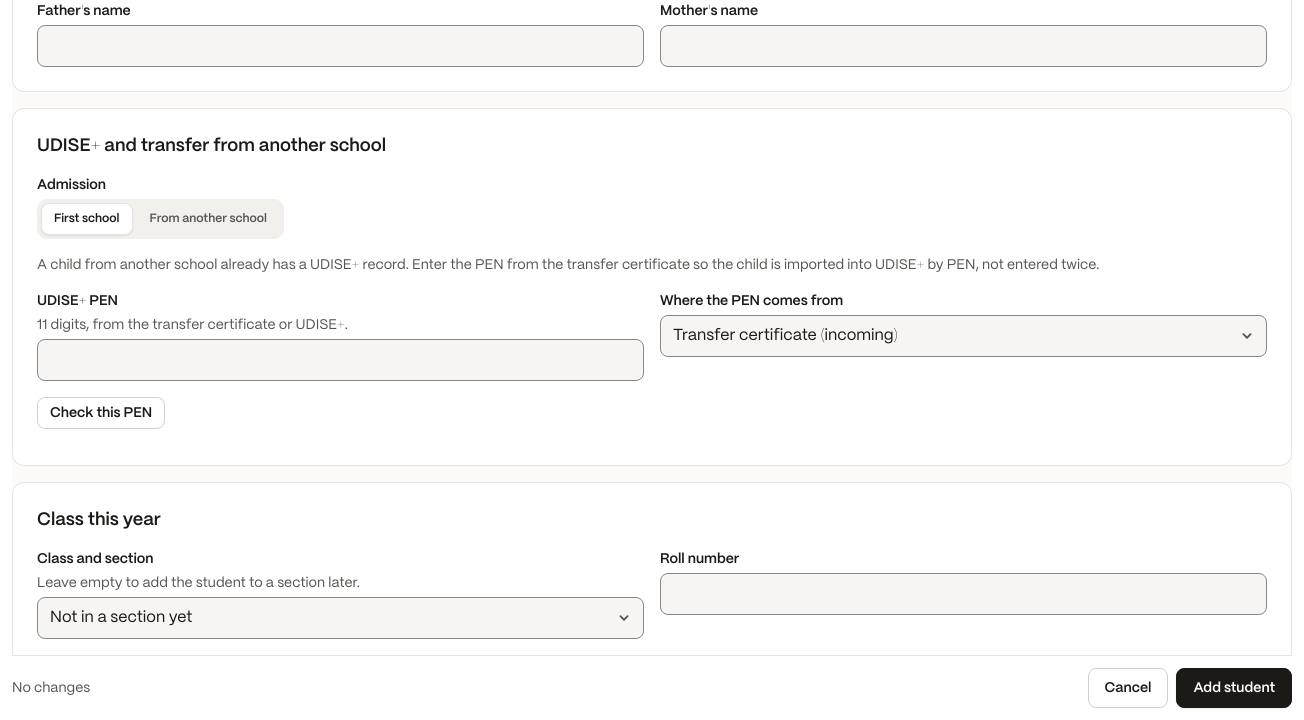
FR-STU-018 transfer-in by PEN › checks a PEN in the body and links to the record already holding it
(page scrolled)
Type "2134 5678 901" into the field labelled "UDISE+ PEN" at (340, 360), box [37,339,644,381]
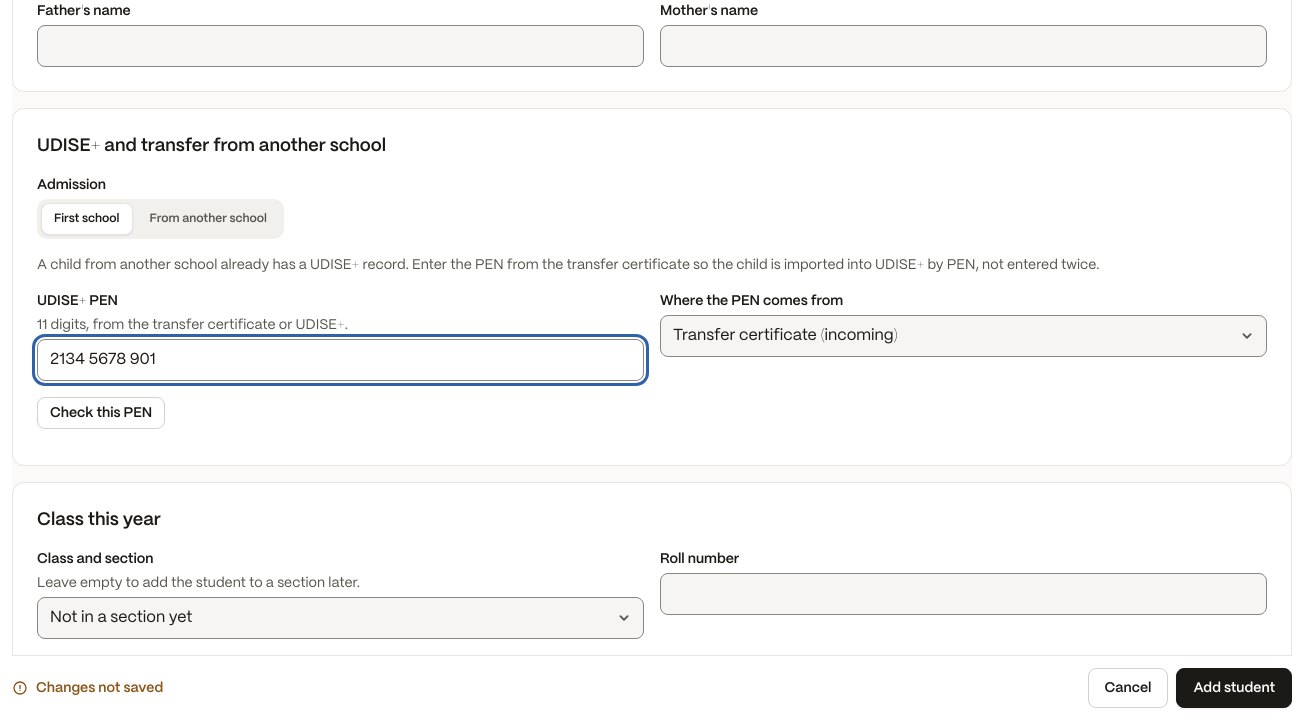
Click the button "Check this PEN" at (101, 413), box [37,397,165,429]
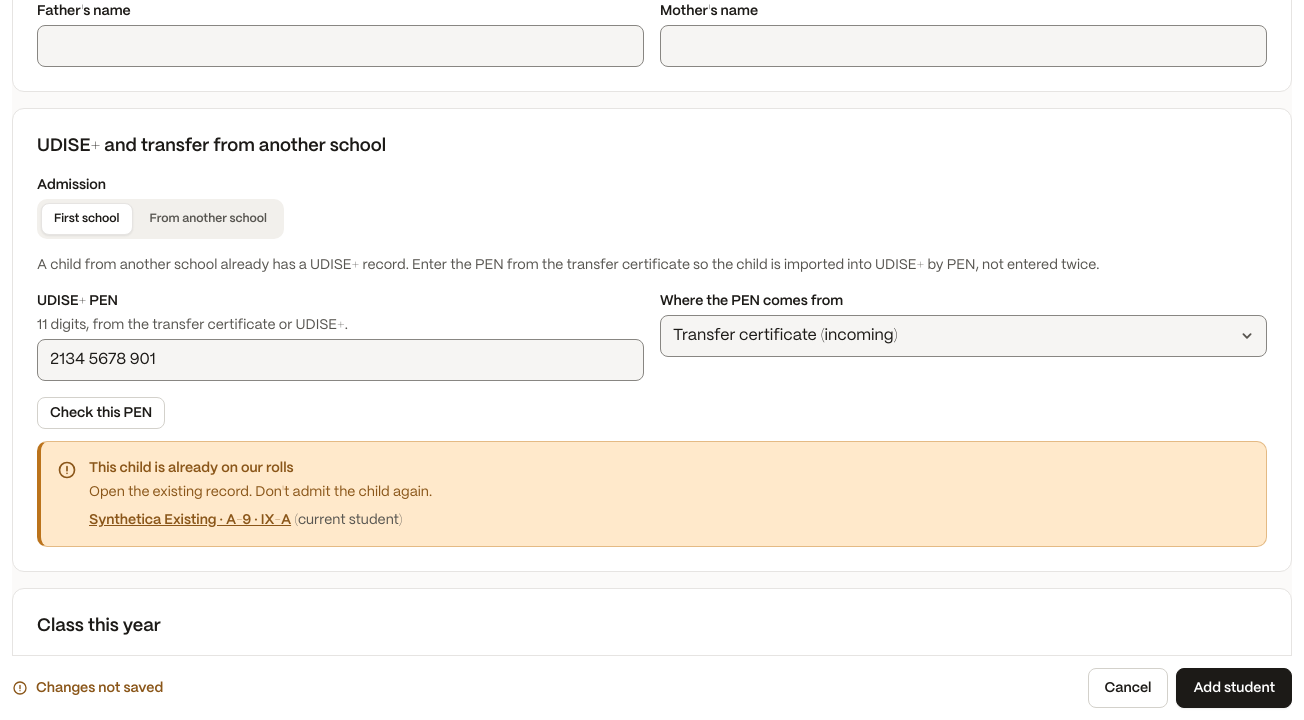
Result: the text "This child is already on our rolls" is shown at [89,461,294,475]
